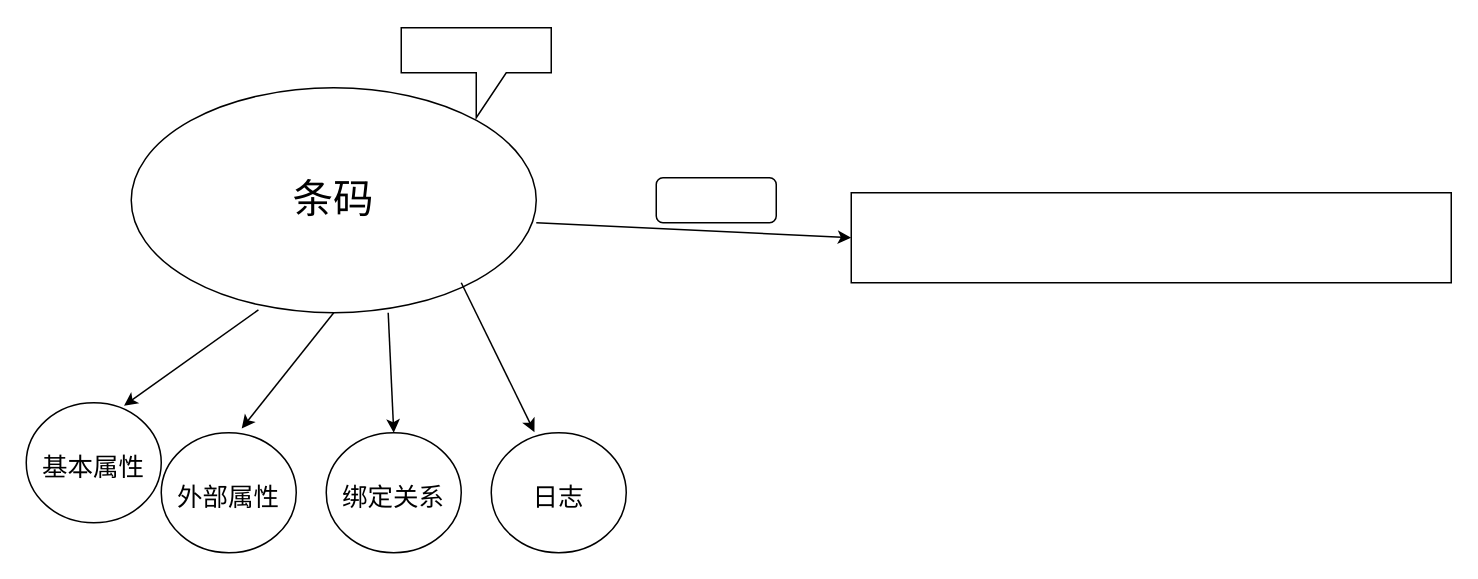
Image size: 1478x579. Some labels were removed from this diagram. The centre of each missing label's shape, as x and y in pixels:
"投料,转序,退料,成品入库,线边入库,工序消耗,工序产出,出库,物料储存卡,EO清板,辐照完工整板,移库" goes at point 1150,237.
"聚合根" goes at point 475,72.
"行为" goes at point 715,199.
